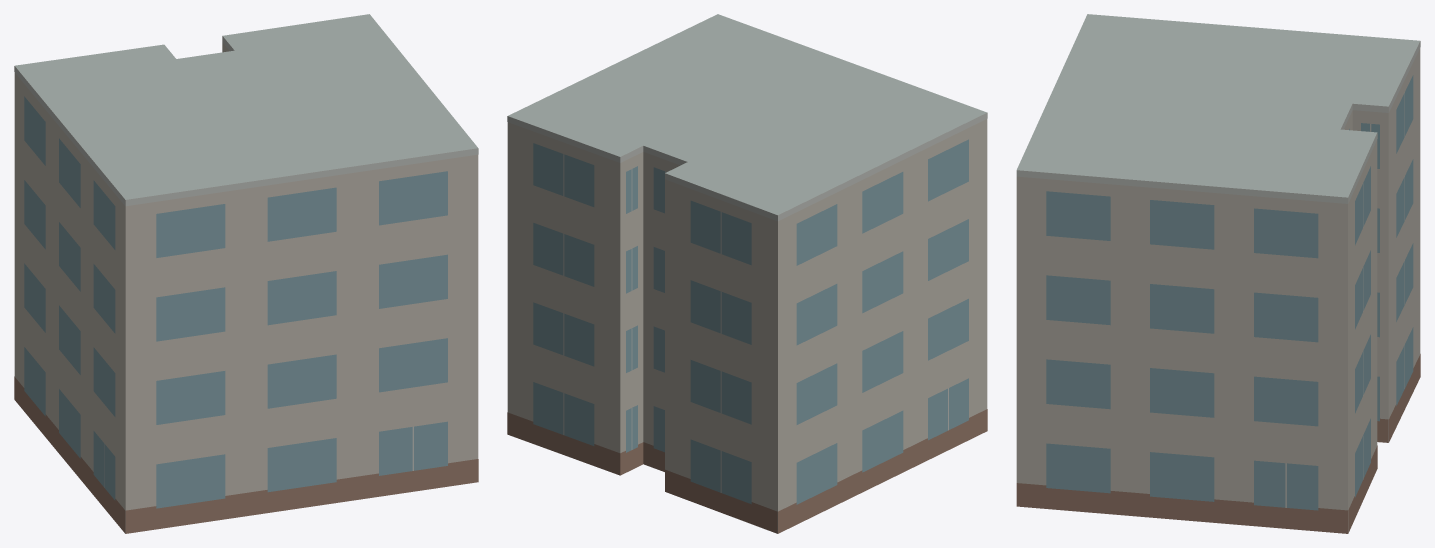
The model's file is survey-upis-32672471.glb.
3 renders of one model, left to right at view 1: azimuth 30°, elevation 25°; view 2: azimuth 150°, elevation 25°; view 3: azimuth 270°, elevation 25°, orthographic. The views are drawn at different scales.
Visible parts, largest first — view 1: survey-upis-32672471.tmp; view 2: survey-upis-32672471.tmp; view 3: survey-upis-32672471.tmp.
Boxes of the visible parts, box(x1,y1,x2,y2) form: survey-upis-32672471.tmp: box(14, 14, 478, 533); survey-upis-32672471.tmp: box(507, 14, 987, 533); survey-upis-32672471.tmp: box(1016, 14, 1420, 533).
Bounding box in the file's own units: 15 × 12.8 × 13.95.
